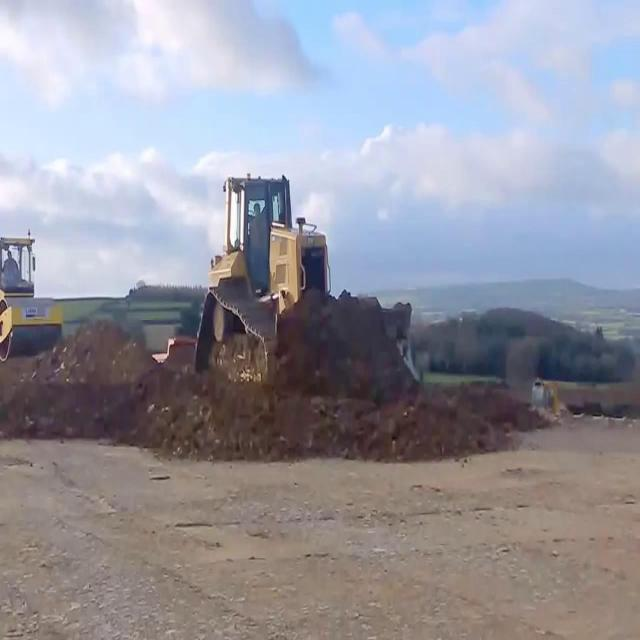Bulldozer: (190, 172, 416, 402)
Roller: (0, 228, 62, 365)
